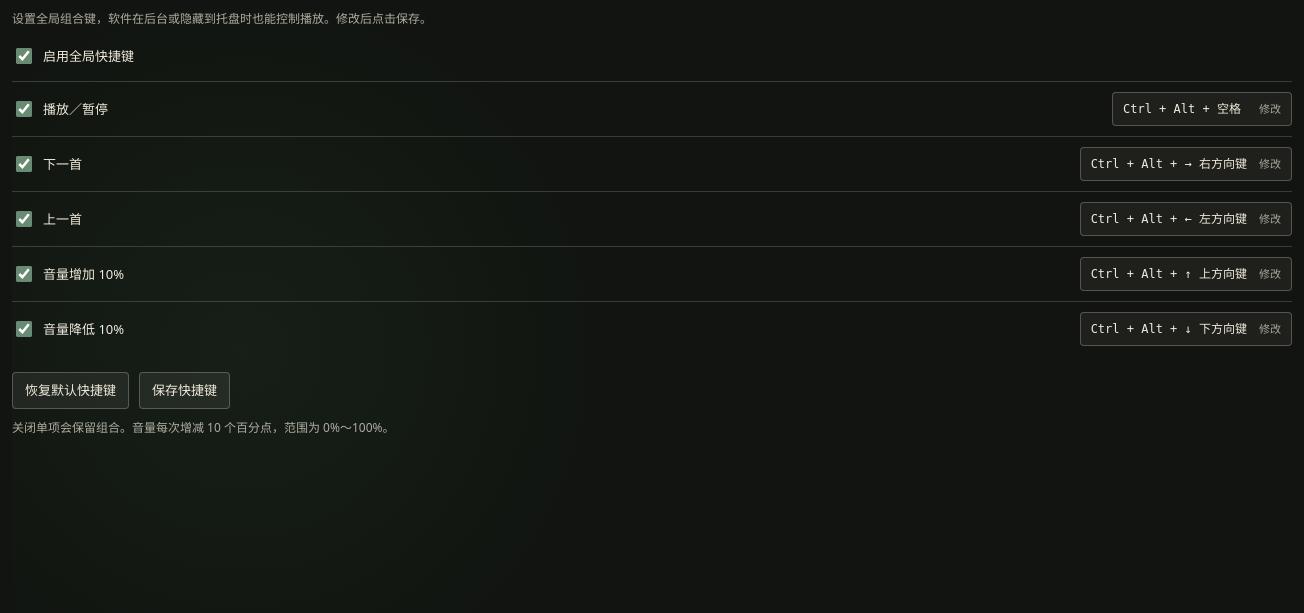
Test: can disable one action and edit another combination without affecting the rest
Expected: the button "保存快捷键" is enabled, [139,372,230,409]
Click the checkbox named "启用上一首快捷键". click: (24, 219)
box: [16,211,32,227]
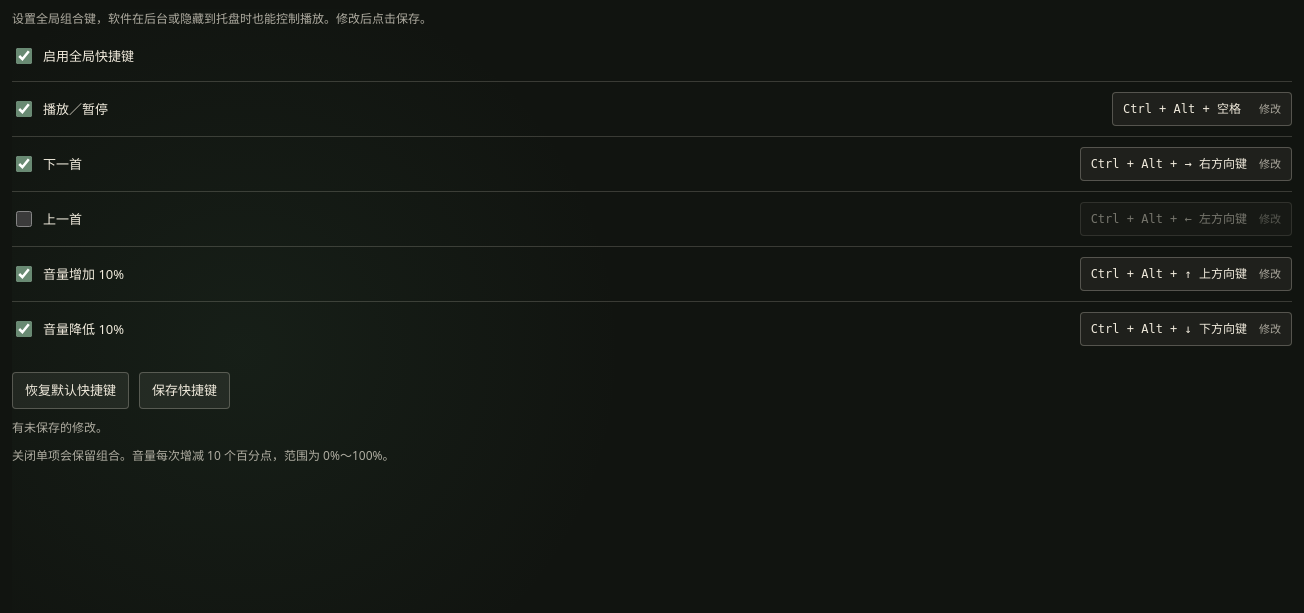
Click the button with aria-label "修改下一首快捷键". click: (1186, 164)
box: [1080,147,1292,181]
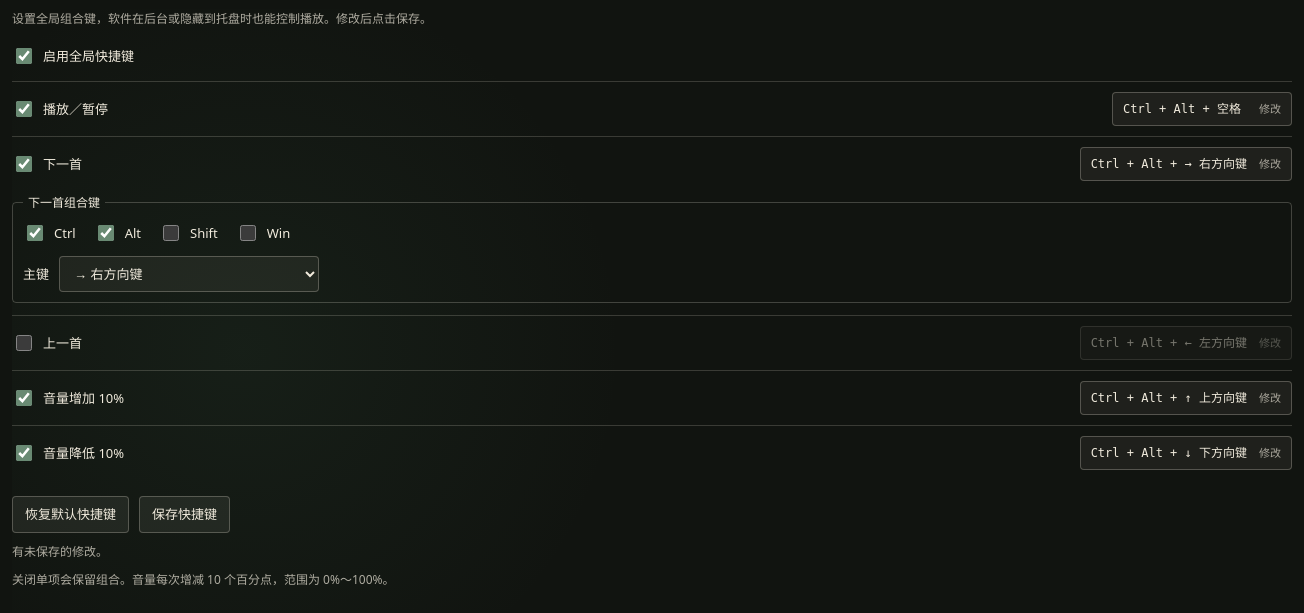
Click the checkbox labelled "Alt". click: (106, 233)
box: [98,225,114,241]
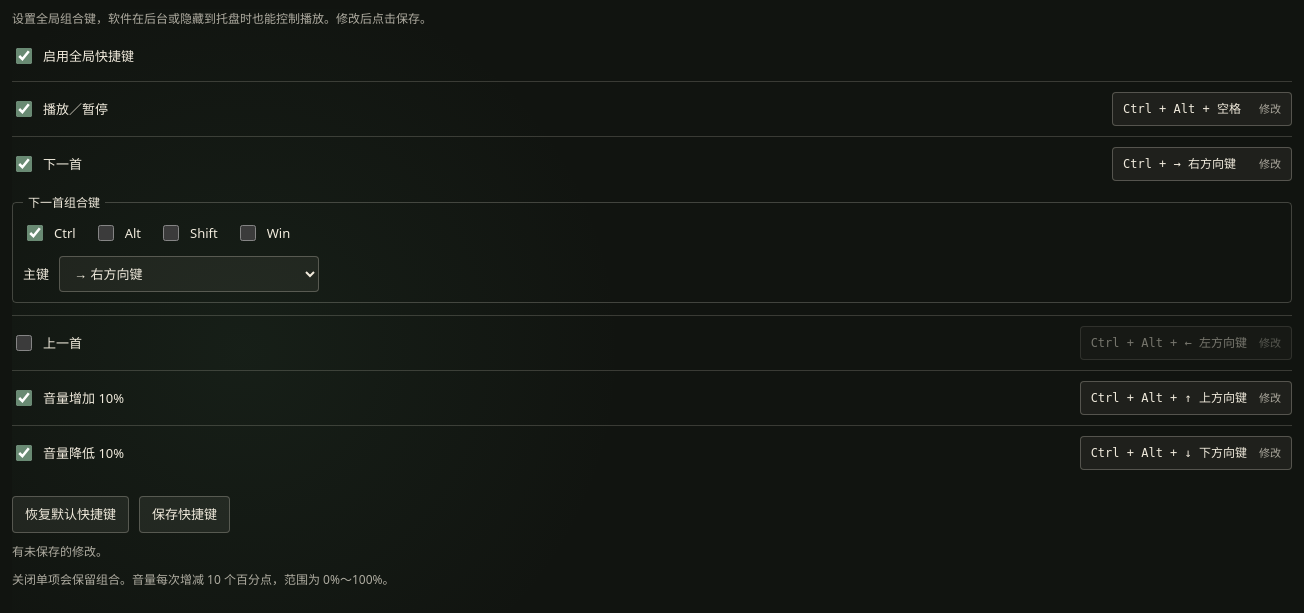
Click the checkbox labelled "Shift". click: (171, 233)
box: [163,225,179,241]
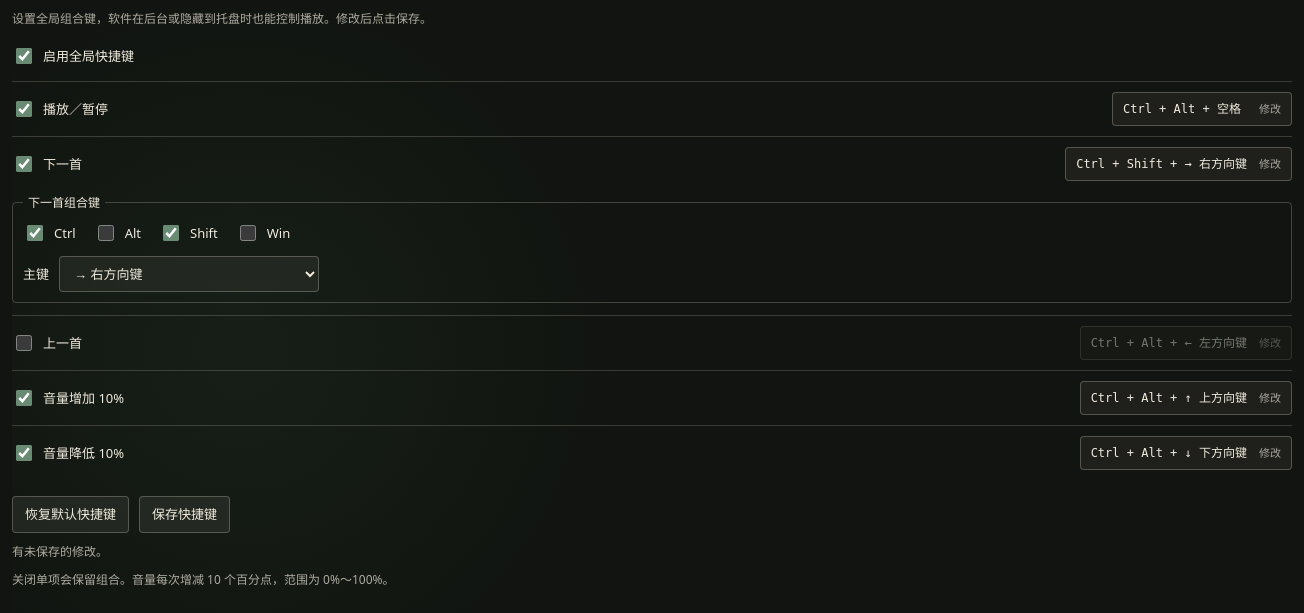
Select "K" in the dropdown named "下一首主键". click: (189, 274)
box: [59,256,319,292]
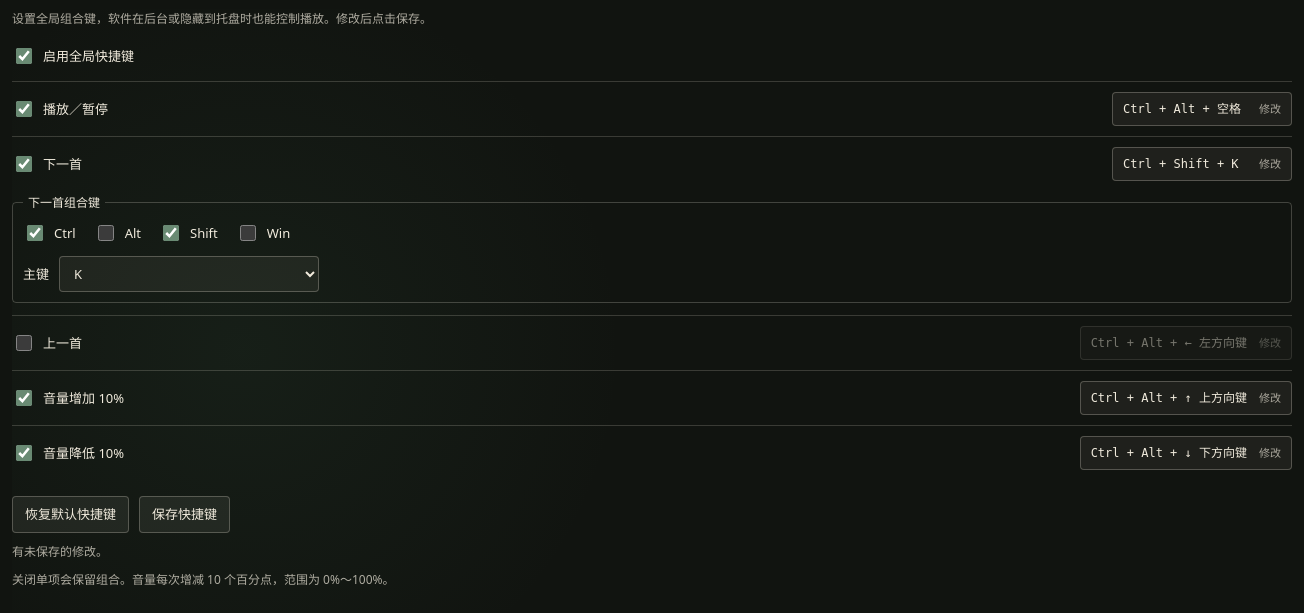
Click the button "保存快捷键". click: (184, 515)
box: [139,496,230,533]
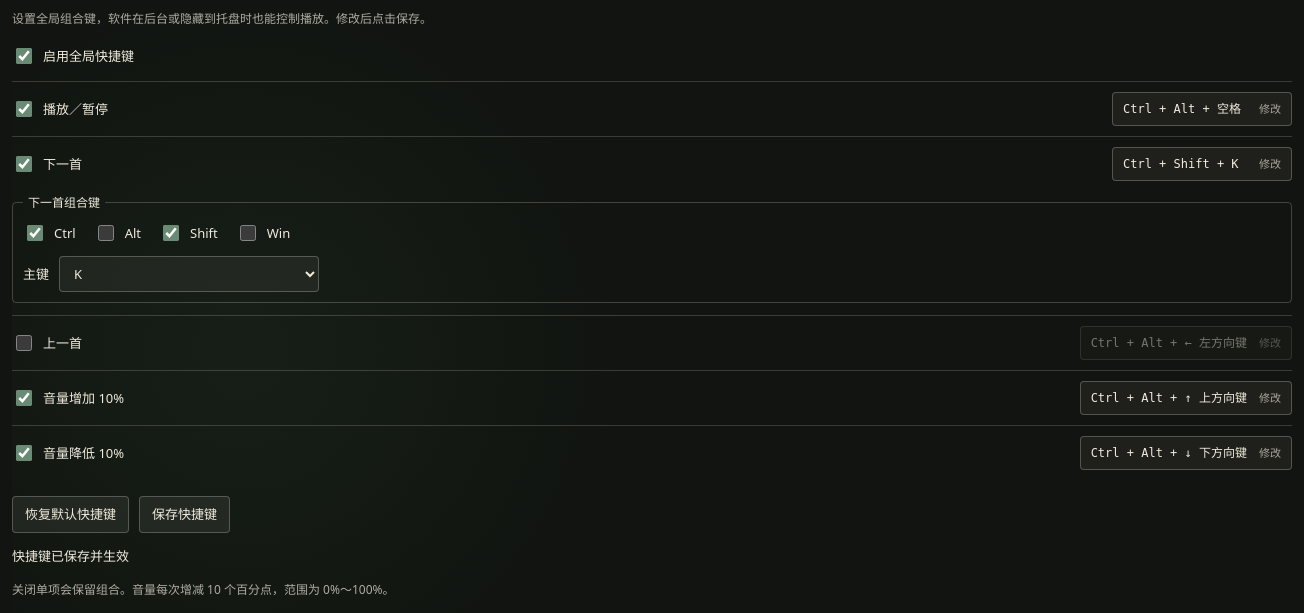
Result: the text "快捷键已保存并生效" is shown at [12,547,129,565]
